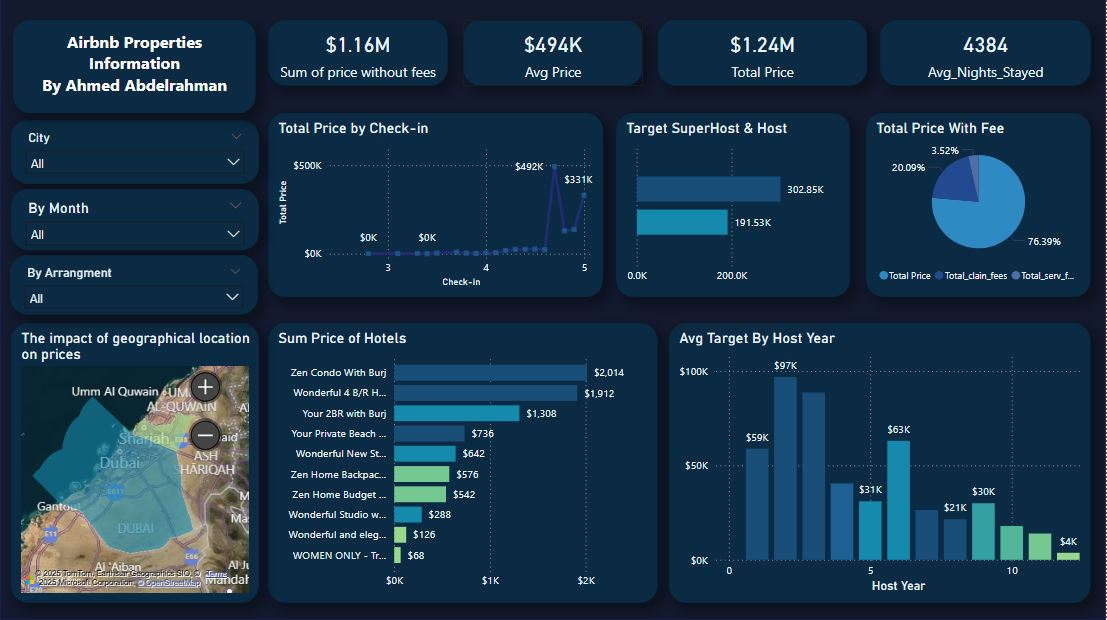

What the dashboard file says about the page in this screenshot:
{"tool":"powerbi","page":{"name":"Page 1","canvas":[1280,720],"ordinal":0},"visuals":[{"type":"shape","box":[0,0,1280.3,720],"z":0},{"type":"card","fields":{"Values":["Sum(Airbnb.Avg_Price)"]},"box":[535.9,25.3,208.4,76.4],"z":1000},{"type":"barChart","title":"Sum Price of Hotels","fields":{"Category":["Airbnb.Country Hierarchy.Name of Hotel"],"Y":["Sum(Airbnb.total_price)"]},"box":[310.7,376.4,451.2,323.5],"z":2000},{"type":"pieChart","title":"Total Price With Fee","fields":{"Y":["Sum(Airbnb.Total Price)","Sum(Airbnb.total_clain_fees)","Sum(Airbnb.total_serv_fees)"]},"box":[1002.4,133.1,260.5,213],"z":3000},{"type":"filledMap","title":"The impact of geographical location on prices","fields":{"Category":["Airbnb.Country Hierarchy.City"]},"box":[12.7,376.2,287.1,324.1],"z":4000},{"type":"lineChart","fields":{"Y":["Sum(Airbnb.total_price)"],"Category":["Airbnb.Check-in"]},"box":[310.2,133.1,387.8,213],"z":5000},{"type":"card","fields":{"Values":["Sum(Airbnb.Avg_Nights_Stayed)"]},"box":[1018.6,25.3,244.2,76.4],"z":6000},{"type":"clusteredColumnChart","title":"Avg Target By Host Year","fields":{"Category":["Airbnb.hosts_year Hierarchy.hosts_year"],"Y":["Sum(Airbnb.Avg_Price_Over_Time)"]},"box":[774.4,376.2,488.5,324.1],"z":7000},{"type":"barChart","title":"Target SuperHost & Host","fields":{"Category":["Airbnb.host","Airbnb.Super"],"Y":["Sum(Airbnb.price)"]},"box":[713.1,133.1,270.9,213],"z":8000},{"type":"card","fields":{"Values":["Sum(Airbnb.total_price)"]},"box":[761.7,25.3,241.9,76.4],"z":9000},{"type":"card","fields":{"Values":["Sum(Airbnb.price_without_fees)"]},"box":[310.2,25.3,208.4,76.4],"z":10000},{"type":"slicer","fields":{"Values":["Airbnb.Country Hierarchy.City"]},"box":[12.7,141.2,287.1,74.1],"z":11000},{"type":"slicer","title":"By Month","fields":{"Values":["Airbnb.Chickin_Year Hierarchy.Chickin_Year","Airbnb.Chickin_Year Hierarchy.Chickin_Month"]},"box":[12.7,221.1,287.1,70.6],"z":12000},{"type":"slicer","title":"By Arrangment","fields":{"Values":["Airbnb.arrangement_details"]},"box":[11.6,297.5,287.1,69.5],"z":13000},{"type":"textbox","box":[15,25.5,281.3,107.7],"z":14000}]}

Visuals, with their boxes in screenshot pixels (x1, y1, x2, y2), scaled from the page's 1280x720 canvas onto the 1107x620 screenshot:
shape: BBox(0, 0, 1106, 619)
card - Sum(Airbnb.Avg_Price): BBox(463, 22, 644, 88)
"Sum Price of Hotels" barChart: BBox(269, 324, 659, 603)
"Total Price With Fee" pieChart: BBox(867, 115, 1092, 298)
"The impact of geographical location on prices" filledMap: BBox(11, 324, 259, 603)
lineChart - Sum(Airbnb.total_price) x Airbnb.Check-in: BBox(268, 115, 604, 298)
card - Sum(Airbnb.Avg_Nights_Stayed): BBox(881, 22, 1092, 88)
"Avg Target By Host Year" clusteredColumnChart: BBox(670, 324, 1092, 603)
"Target SuperHost & Host" barChart: BBox(617, 115, 851, 298)
card - Sum(Airbnb.total_price): BBox(659, 22, 868, 88)
card - Sum(Airbnb.price_without_fees): BBox(268, 22, 449, 88)
slicer - Airbnb.Country Hierarchy.City: BBox(11, 122, 259, 185)
"By Month" slicer: BBox(11, 190, 259, 251)
"By Arrangment" slicer: BBox(10, 256, 258, 316)
textbox: BBox(13, 22, 256, 115)
